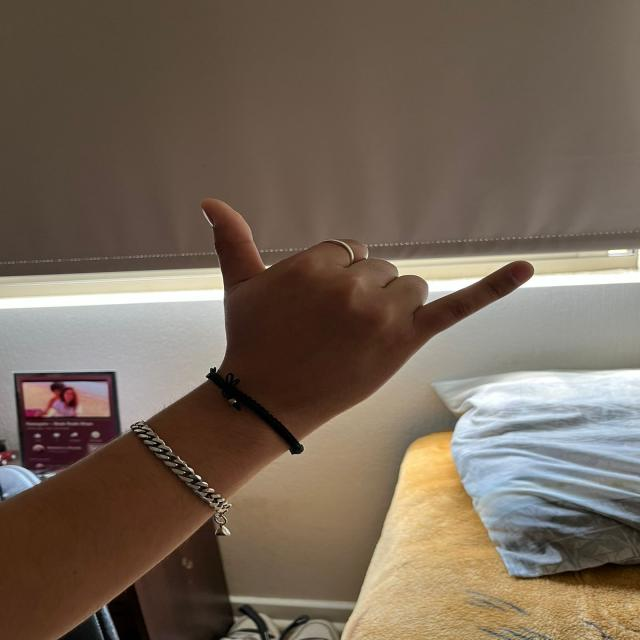Y: (197, 192, 536, 407)
